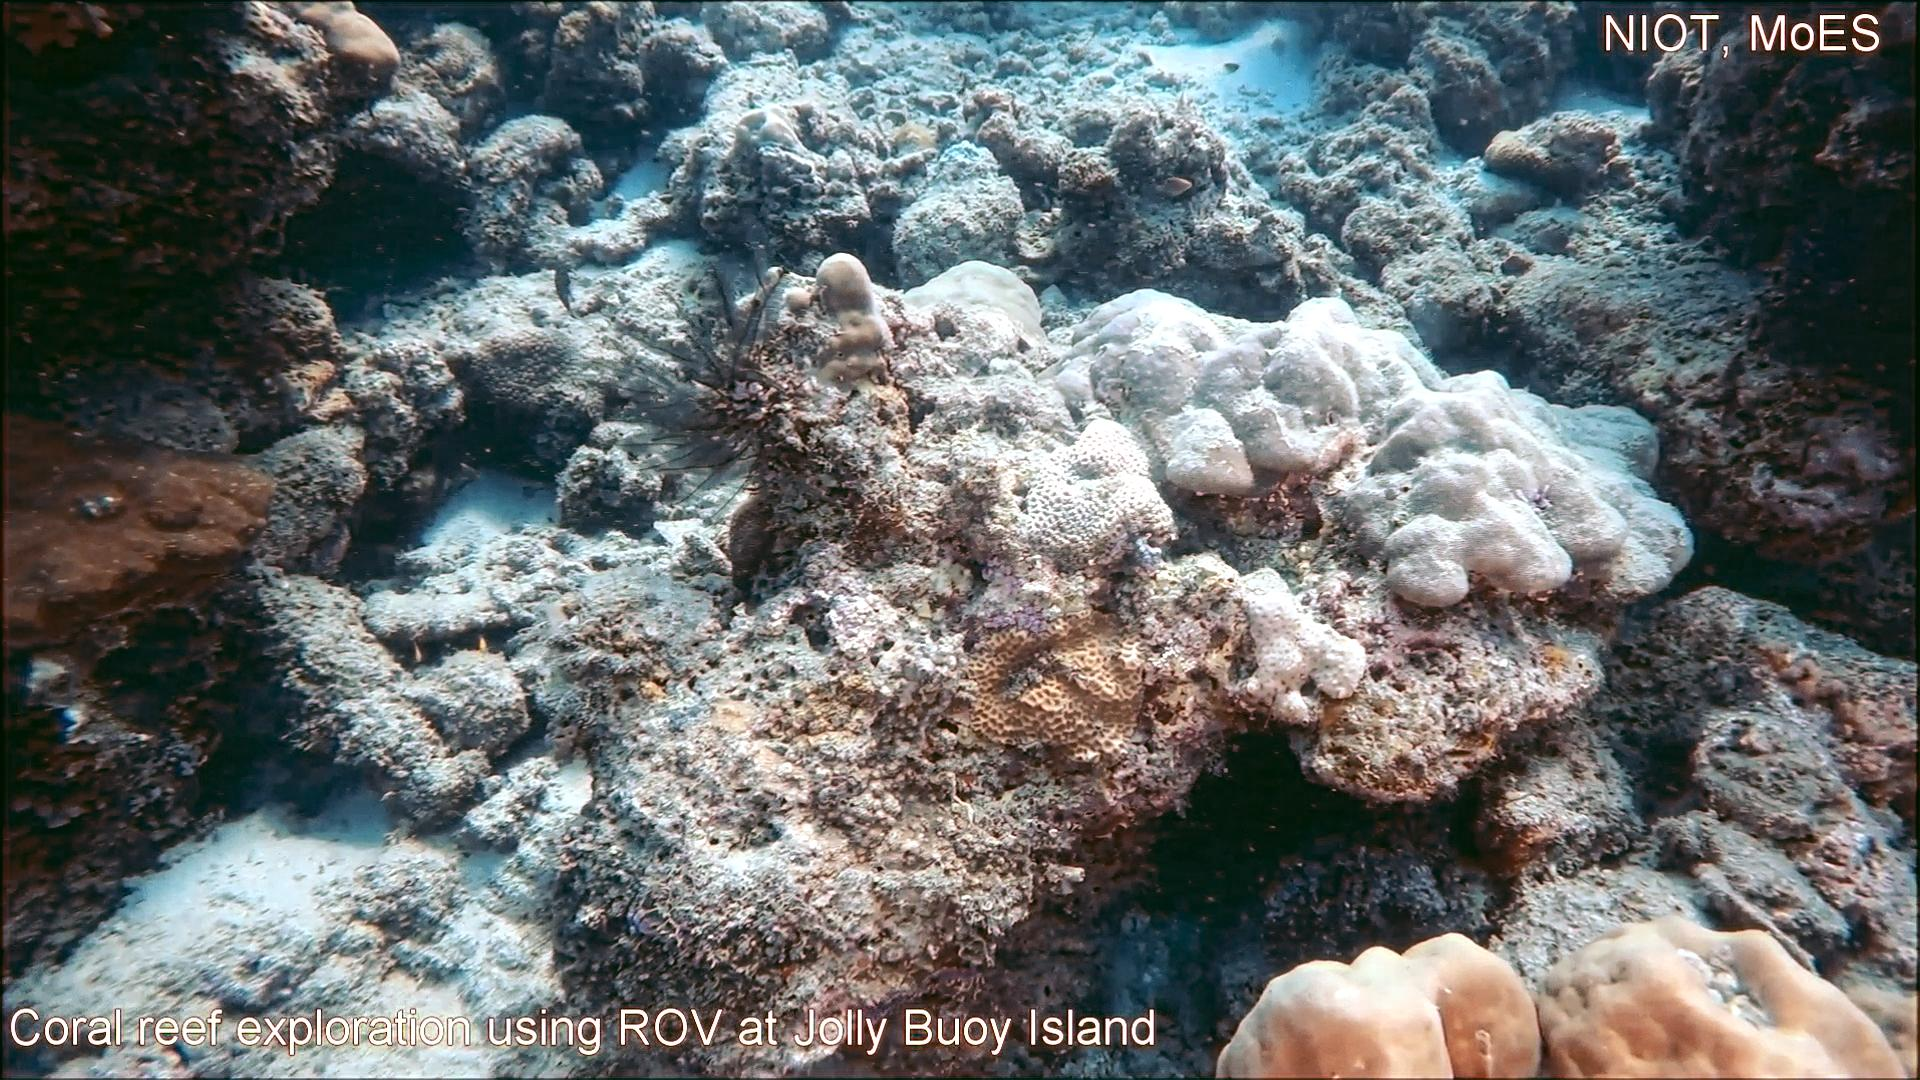Feather star-Crinoid star: (579, 211, 795, 529)
Goniastrea-Goniastrea pectinata: (1022, 409, 1183, 582)
Porites-Porites pukoensis: (1261, 289, 1701, 615)
Turbinaria-Turbinaria stellulata: (465, 326, 605, 418)
